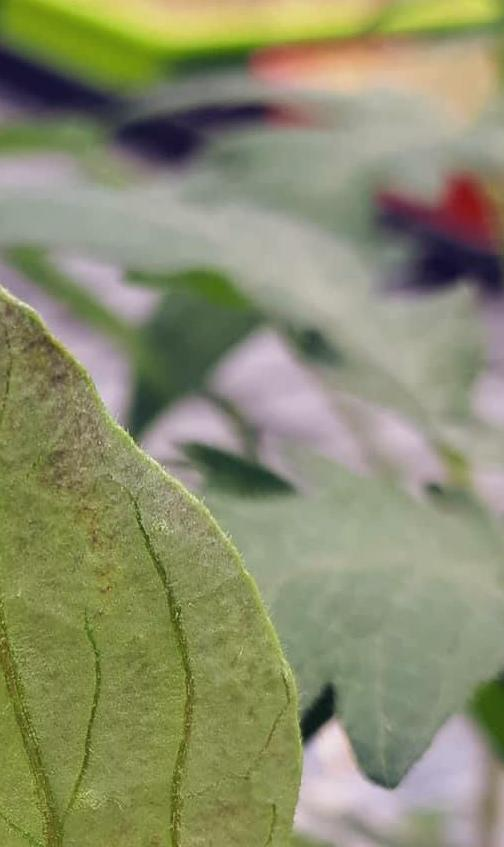Tomato mold leaf: (0, 223, 369, 847)
